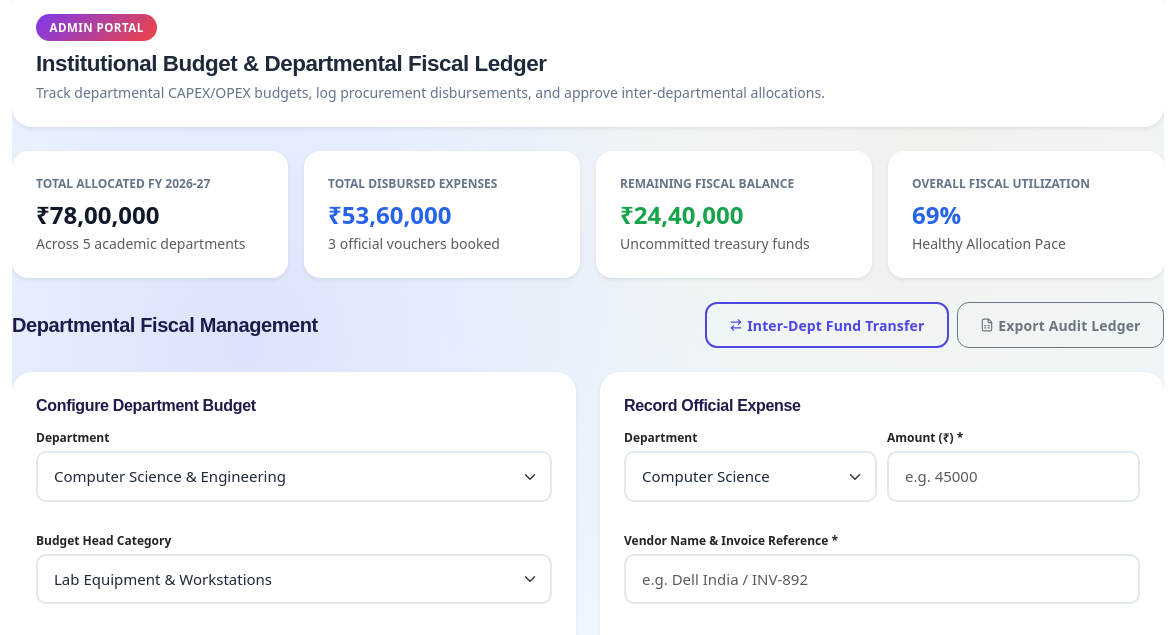
BudgetTrackingPage Component Tests › records official expense via API and displays success alert
Expected: the heading "Record Official Expense" is shown, 624,397 -> 801,414
Type "35000" into the number field labelled "Amount (₹) *" at coordinates (1014, 477), box 887,451 -> 1140,502
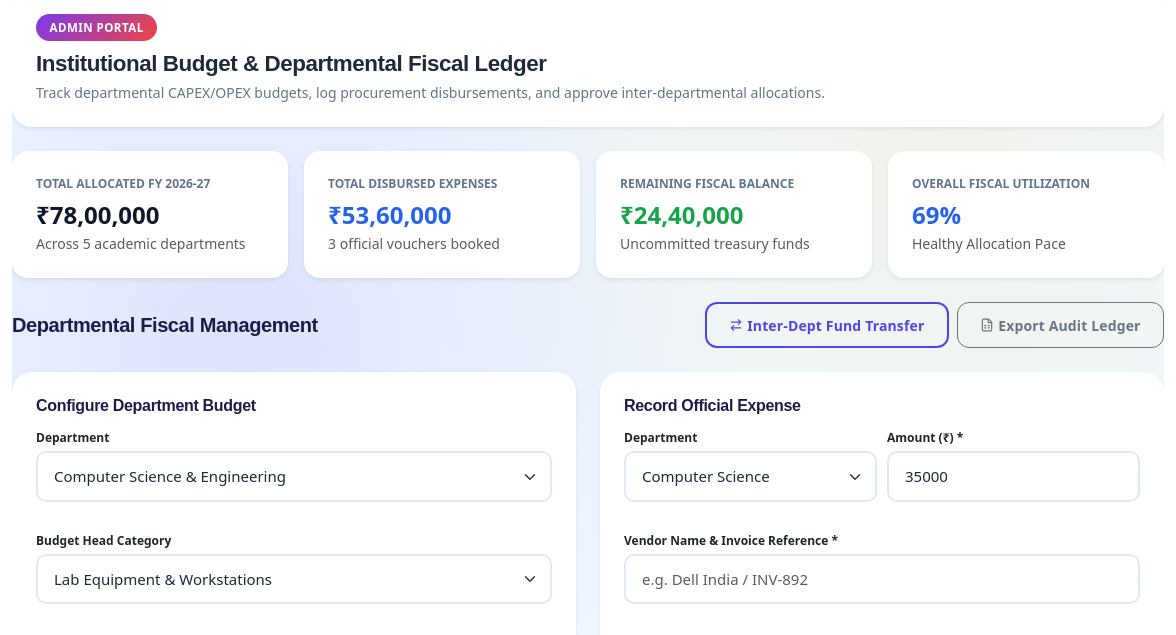
Type "Dell India / INV-892" into the field labelled "Vendor Name & Invoice Reference *" at coordinates (882, 579), box 624,554 -> 1140,604
(page scrolled)
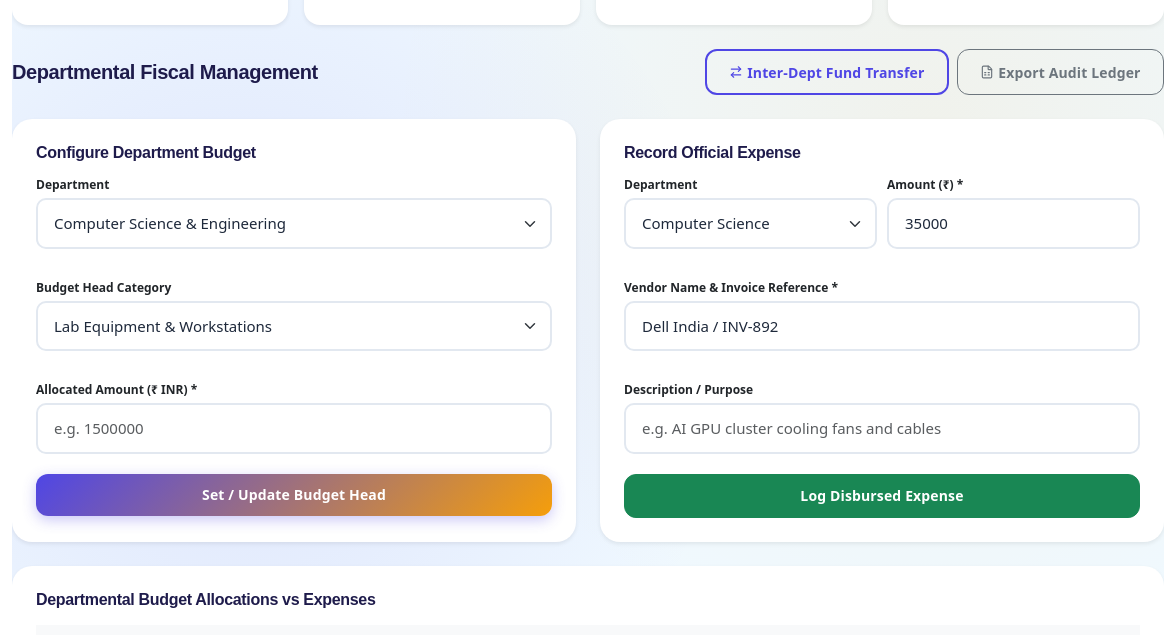
Submit the form named "Log Disbursed Expense", box 624,176 -> 1140,518
(page scrolled)
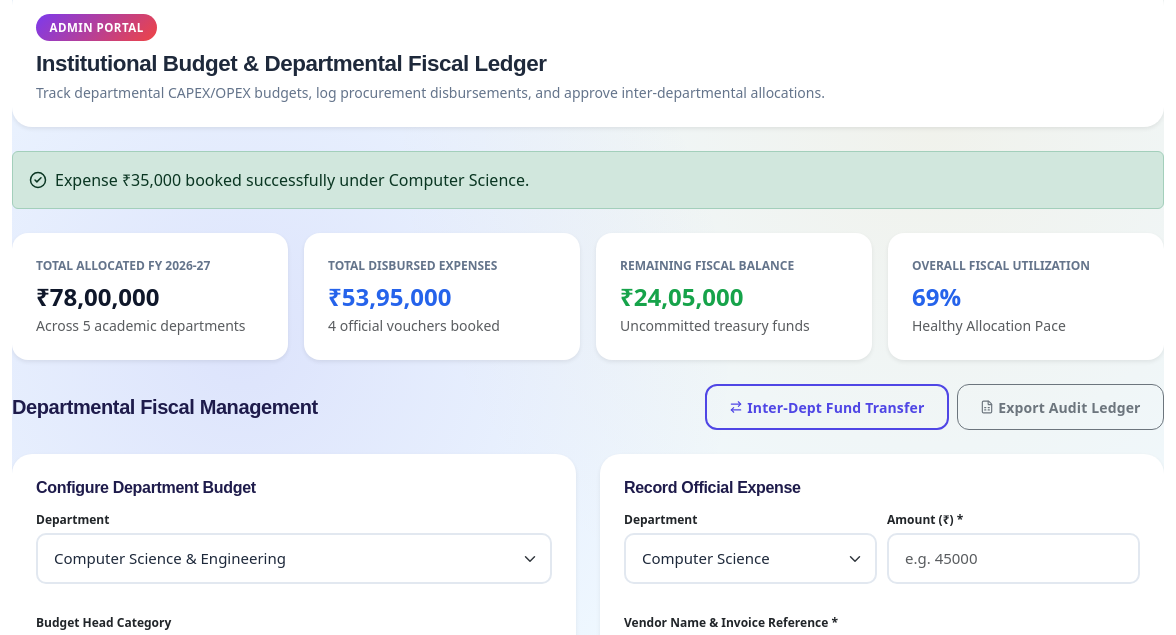
Now the text "Expense ₹35,000 booked successfully under Computer Science." is shown, box 12,151 -> 1164,209
